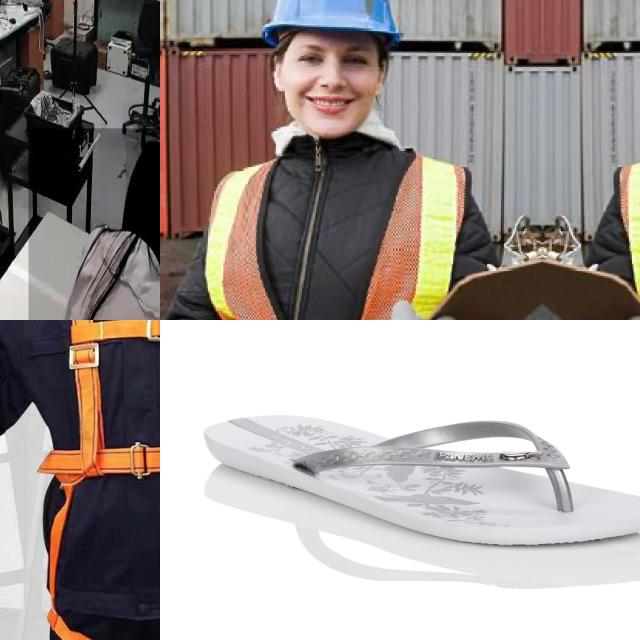Harness: (41, 320, 160, 640)
No_Ear-Protection: (375, 59, 390, 99), (271, 56, 285, 91)
No_Glasses: (290, 44, 379, 73)
Sandals: (202, 412, 640, 547)
face_nomask: (282, 68, 378, 138)
head_helmet: (261, 0, 401, 47)
head_nohelmet: (126, 141, 160, 211)
person: (28, 128, 160, 320)
